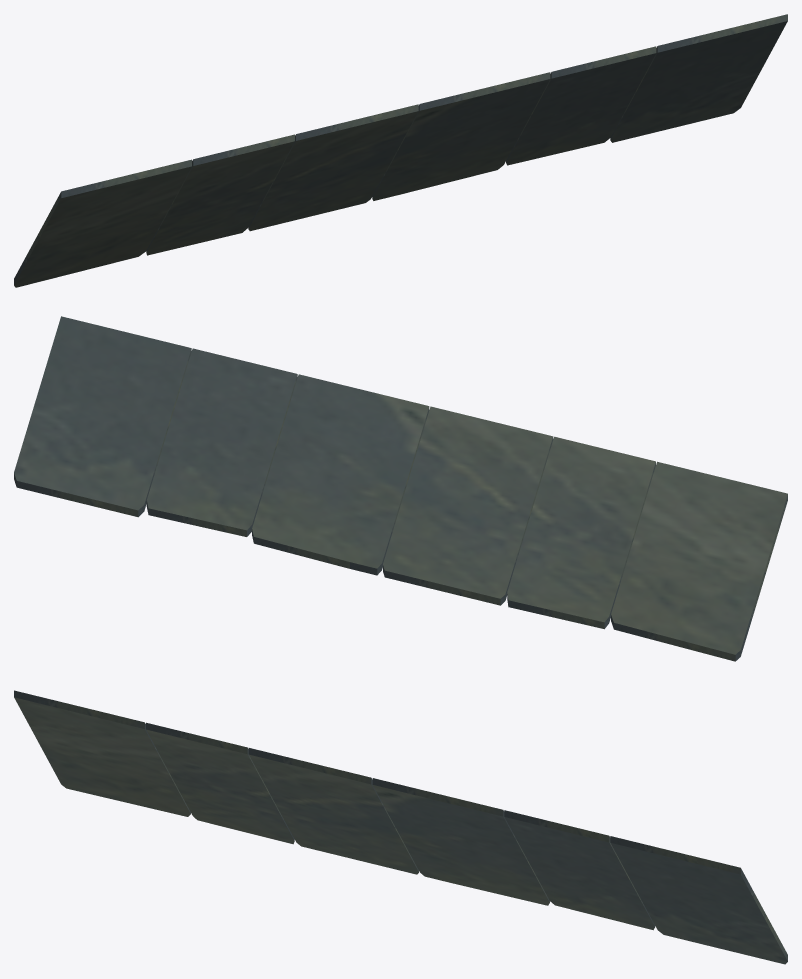
Rendered from CM_SlateRoofKit01_Course2m_56p9.fbx.
The picture shows the model from 3 angles, top to bottom: view 1: azimuth 30°, elevation 25°; view 2: azimuth 150°, elevation 25°; view 3: azimuth 330°, elevation 25°; orthographic projection.
Visible parts, largest first — view 1: CM_SlateRoofKit01_Course2m_56p9_Slate; view 2: CM_SlateRoofKit01_Course2m_56p9_Slate; view 3: CM_SlateRoofKit01_Course2m_56p9_Slate.
Part boxes in pixels (<box>): CM_SlateRoofKit01_Course2m_56p9_Slate: <box>14,14,787,287</box>; CM_SlateRoofKit01_Course2m_56p9_Slate: <box>14,316,787,661</box>; CM_SlateRoofKit01_Course2m_56p9_Slate: <box>14,690,787,964</box>.
Bounding box in the file's own units: 2 × 0.3522 × 0.2348.
